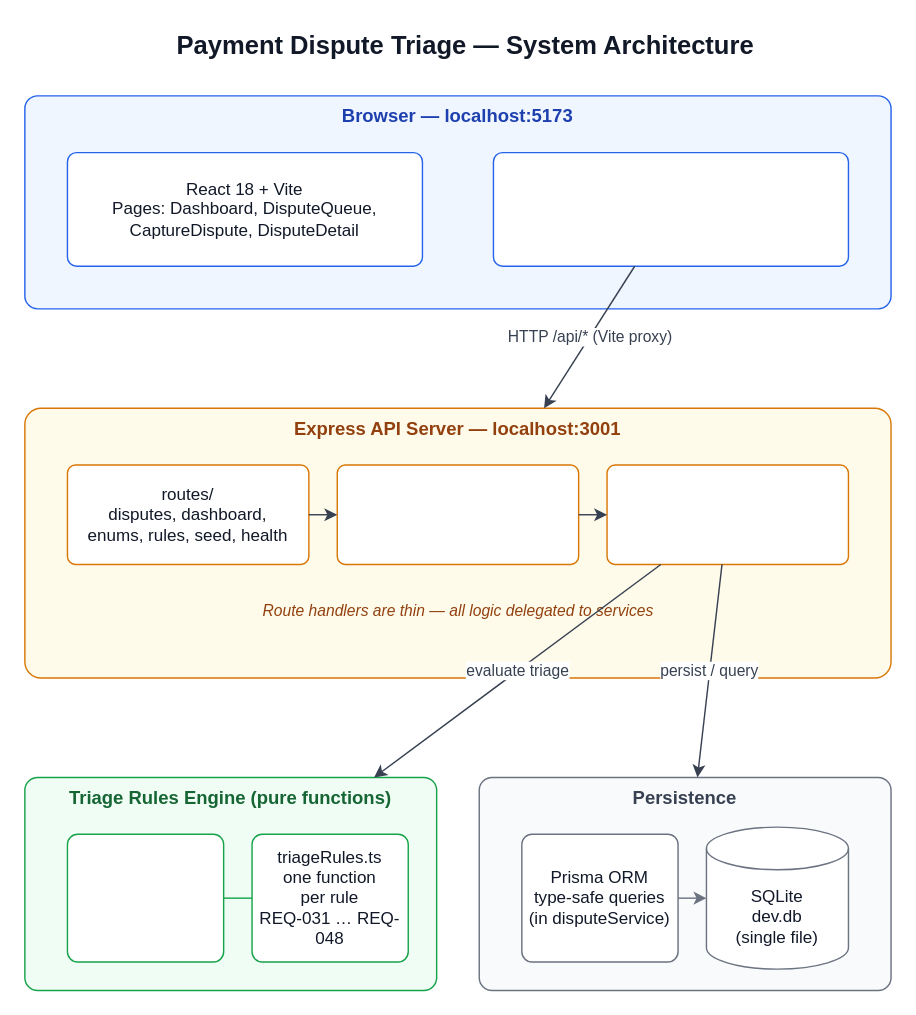
This 916x1015 diagram has some shape labels left out. Each missing label, with the centre of its shape:
"middleware/ validation, errorHandler" goes at (x=457, y=514).
"services/ disputeService, triageEngine" goes at (x=727, y=514).
"triageEngine.ts evaluate 17 rules in precedence order (first match wins)" goes at (x=145, y=897).
"useDisputes hooks (all data fetching) Tailwind CSS + React Router" goes at (x=670, y=208).
